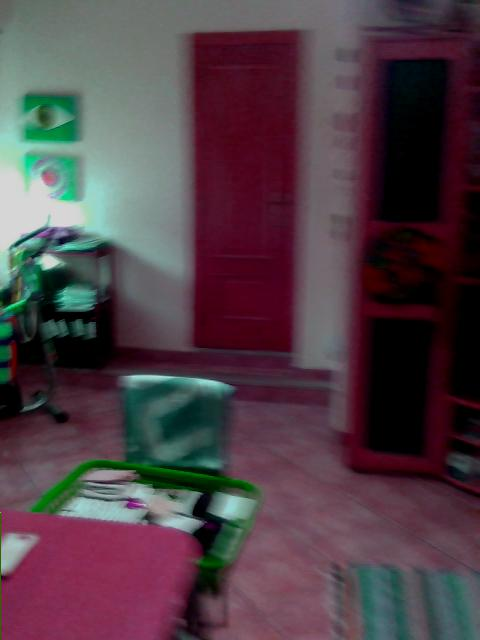closed_door: (182, 28, 301, 353)
